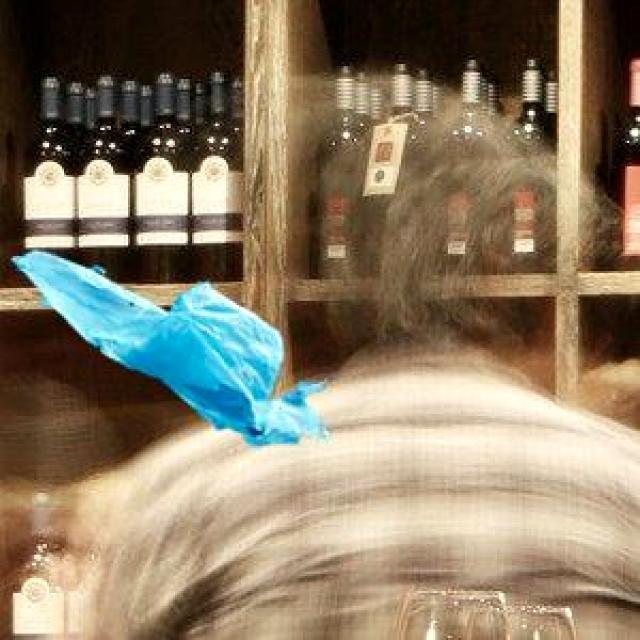Plastic_Bag: (9, 248, 326, 442)
